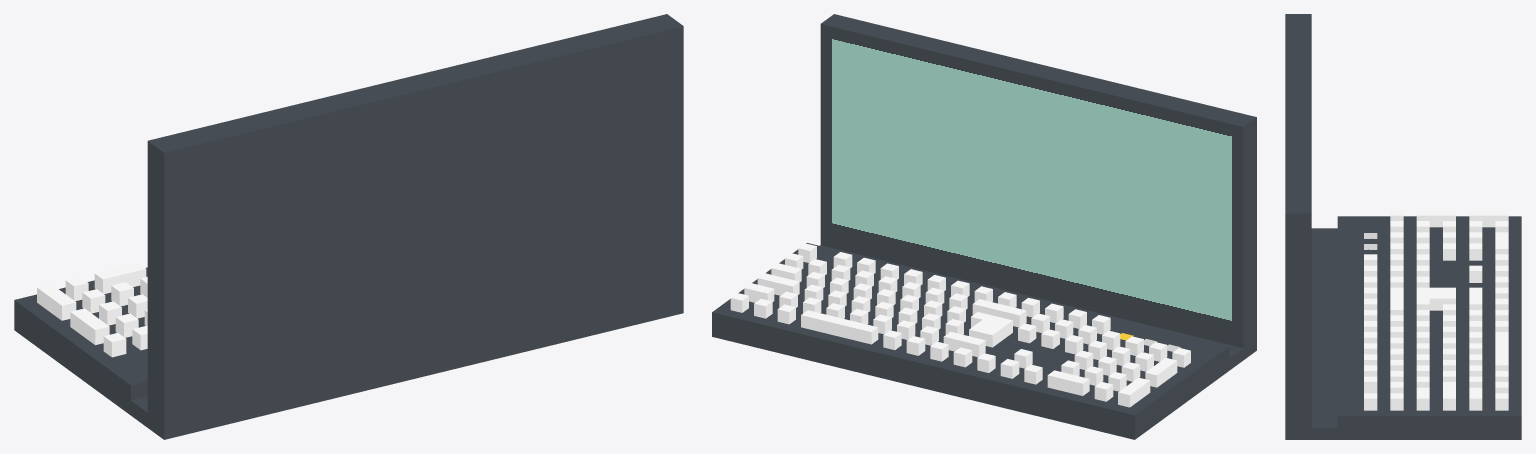
3 renders of one model, left to right at view 1: azimuth 30°, elevation 25°; view 2: azimuth 150°, elevation 25°; view 3: azimuth 270°, elevation 25°, orthographic. The views are drawn at different scales.
Visible parts, largest first — view 1: Object; view 2: Object; view 3: Object.
Boxes of the visible parts, x1,y1,x2,y2 form: Object: (14, 14, 683, 439); Object: (712, 14, 1256, 439); Object: (1285, 14, 1521, 439).
Bounding box in the file's own units: 36 × 19 × 18.
Materials: 1 (1 with a texture image).
